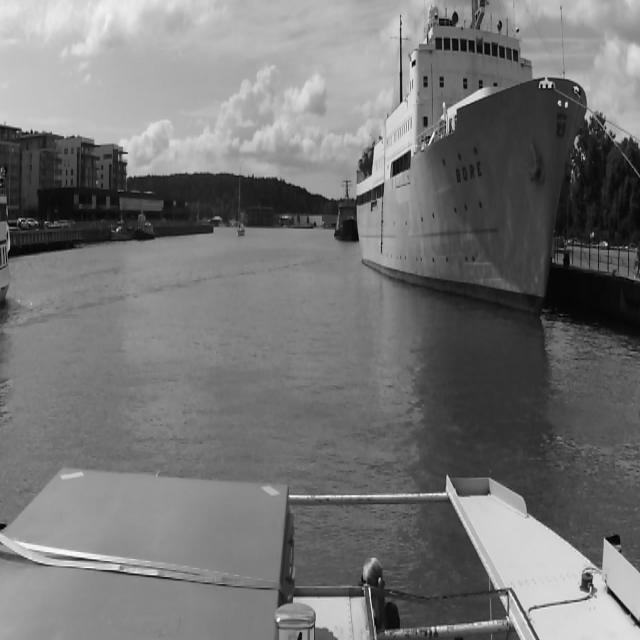ship: (356, 19, 586, 316), (335, 197, 359, 243), (110, 219, 134, 241), (237, 166, 244, 236), (134, 217, 154, 239)
